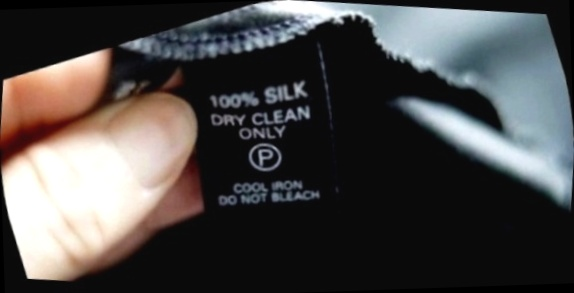dry_clean_any_solvent_except_trichloroethylene: (237, 128, 295, 184)
